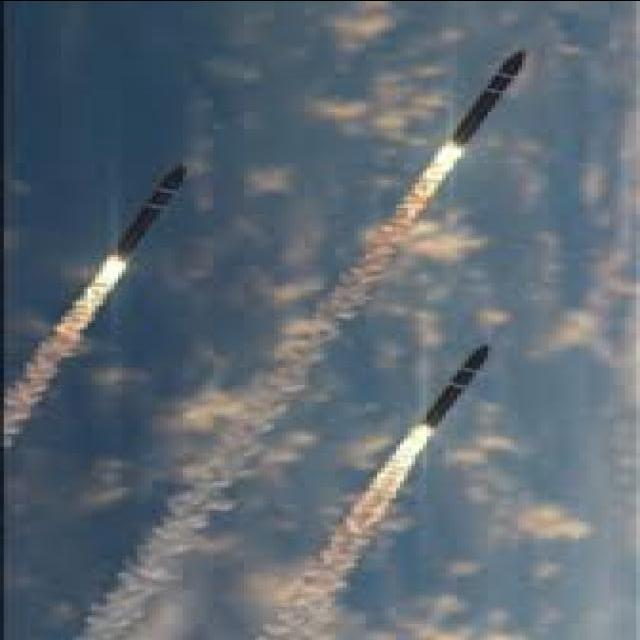missile: (440, 45, 547, 153), (112, 160, 201, 270), (413, 330, 497, 441)
